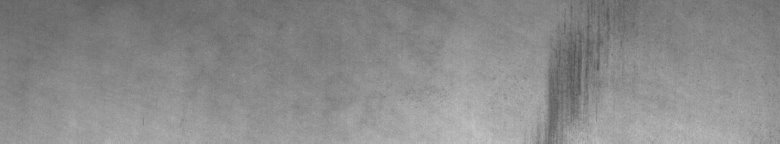ka: (537, 8, 613, 136)
